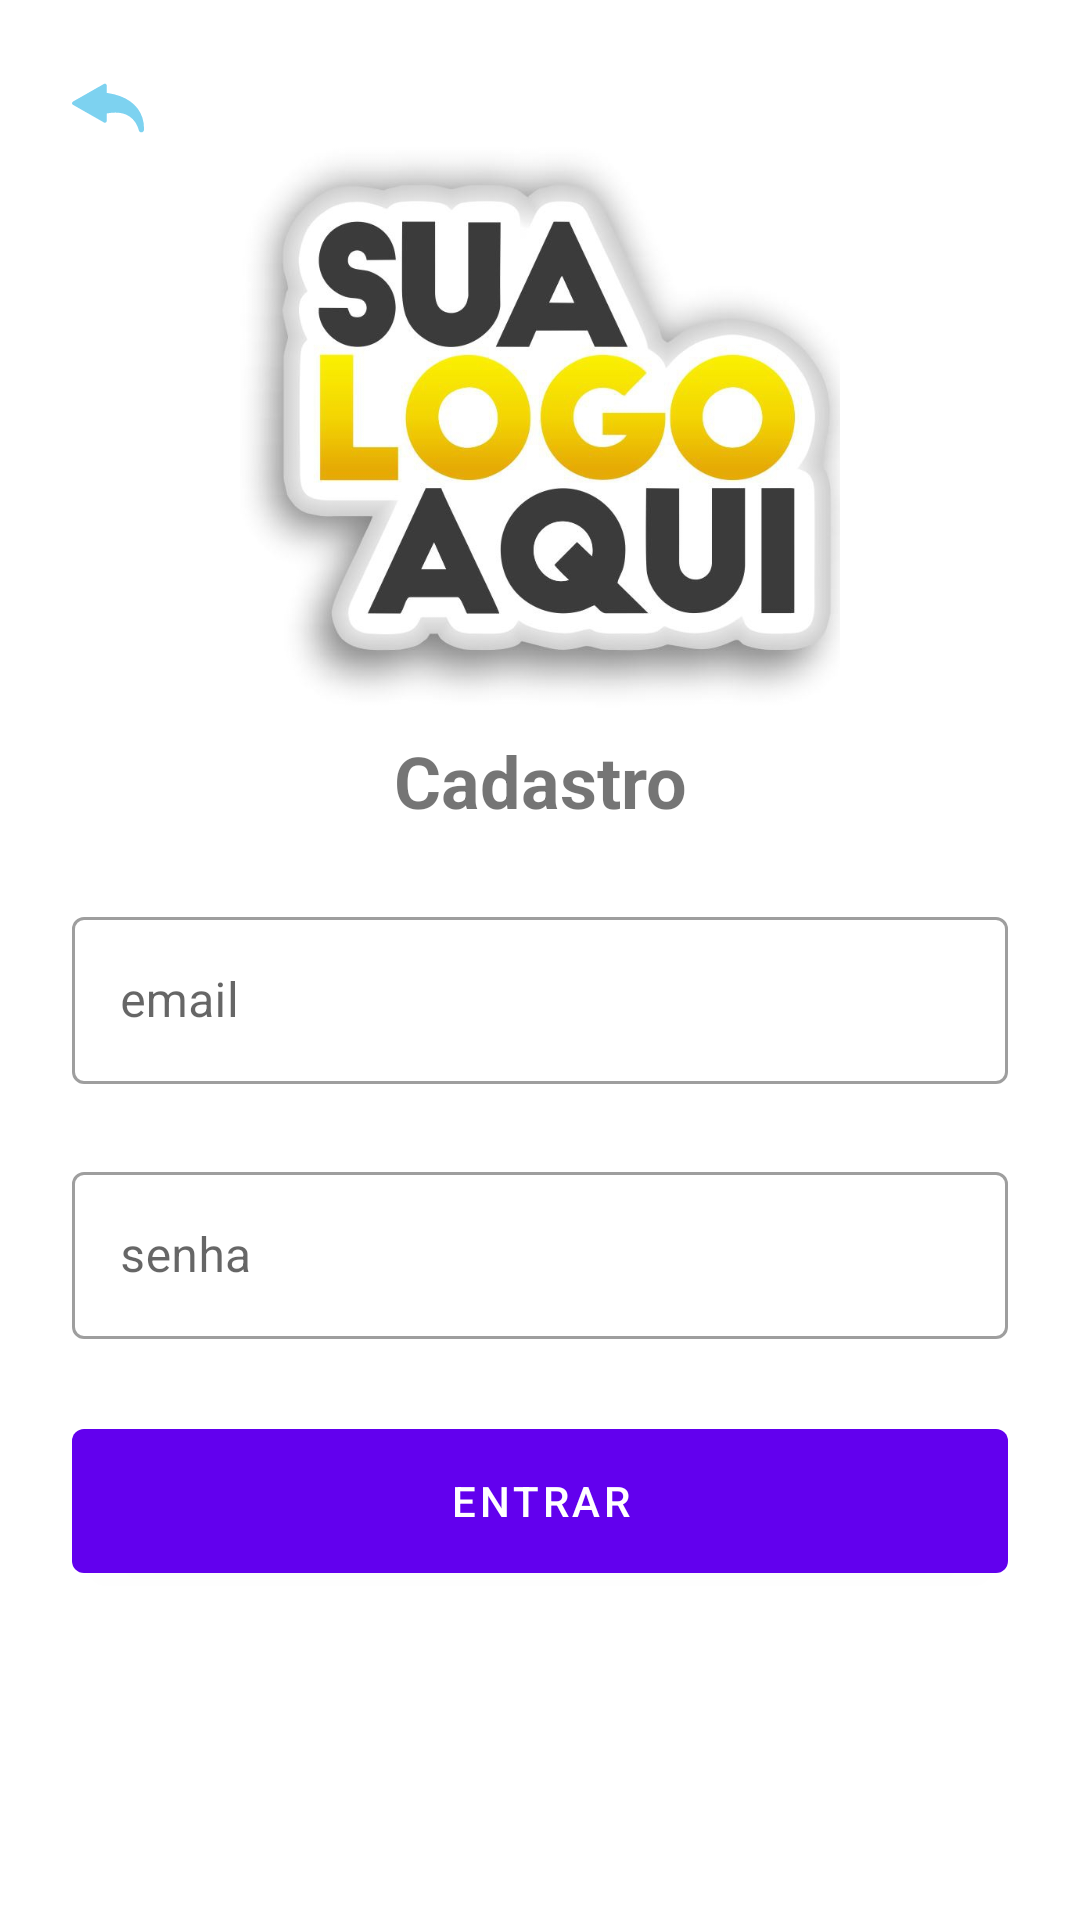

Named icons in this screenshot (1080*1920) and their bounding boxes, box(x1, y1, x2, y2):
back: box(72, 83, 144, 133)
